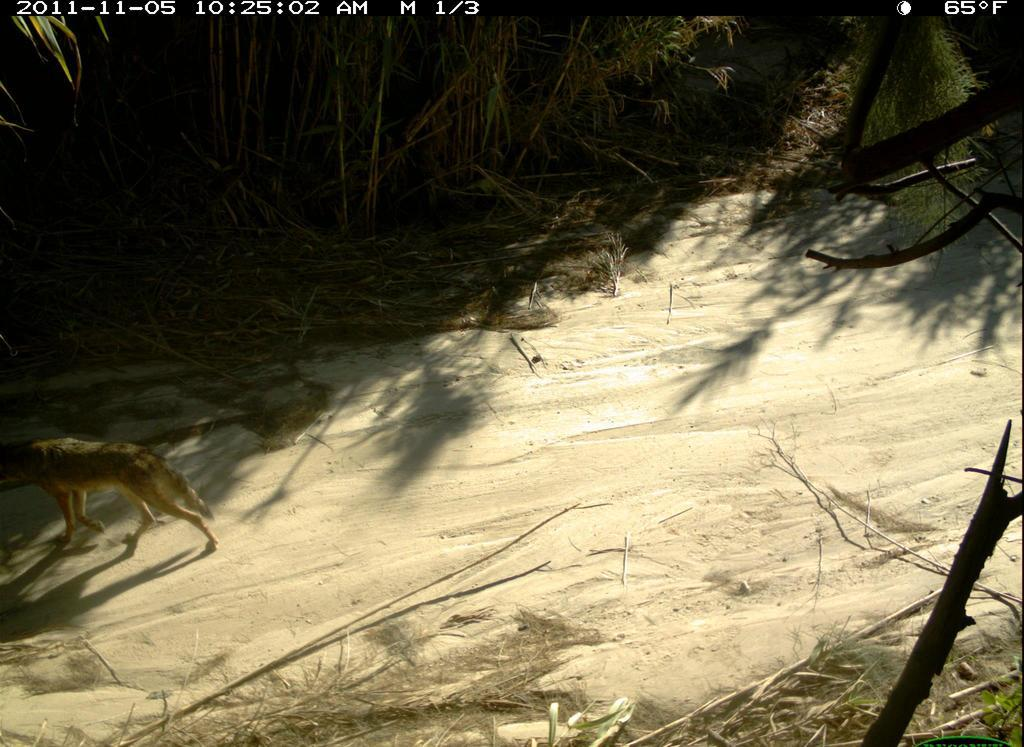coyote: (1, 428, 240, 564)
